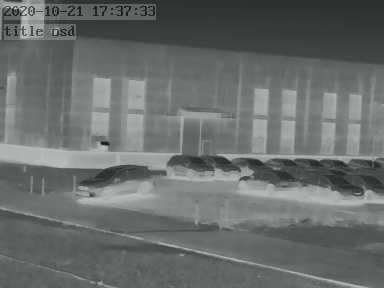vehicle: (81, 165, 162, 198), (299, 173, 364, 203), (238, 169, 303, 191), (164, 152, 213, 179), (204, 153, 243, 177), (349, 173, 382, 200), (232, 154, 270, 172), (262, 155, 296, 170), (346, 156, 379, 171), (316, 156, 347, 170), (295, 156, 325, 169)
